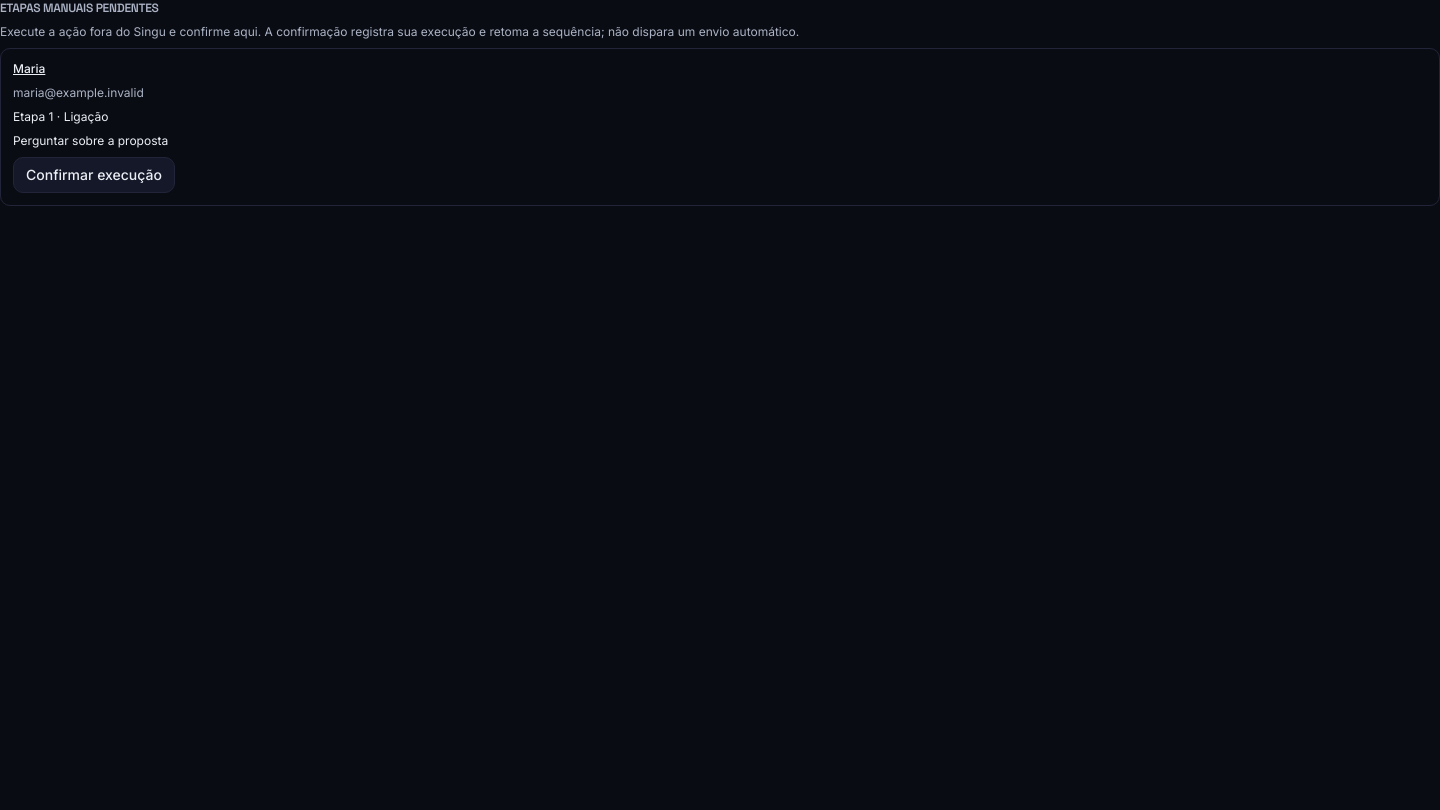
Confirmação manual da sequência › só confirma após declaração explícita da execução e preserva a observação
Check: the text "Perguntar sobre a proposta" is shown, box left=13, top=133, right=168, bottom=148
Click the button "Confirmar execução": point(94, 175) left=13, top=157, right=175, bottom=193
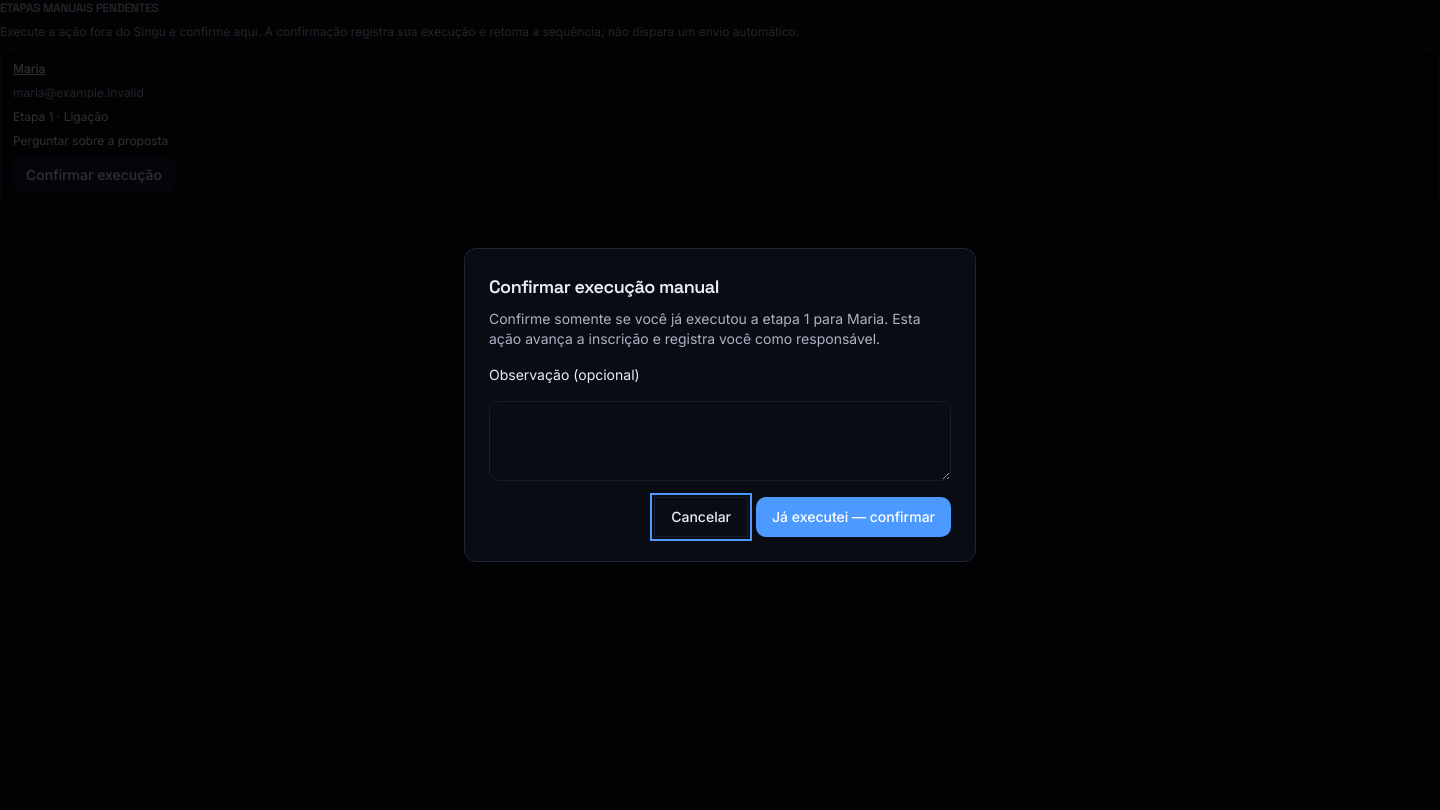
In the text box labelled "Observação (opcional)": point(720, 441) left=489, top=401, right=951, bottom=481, type "Liguei para Maria"
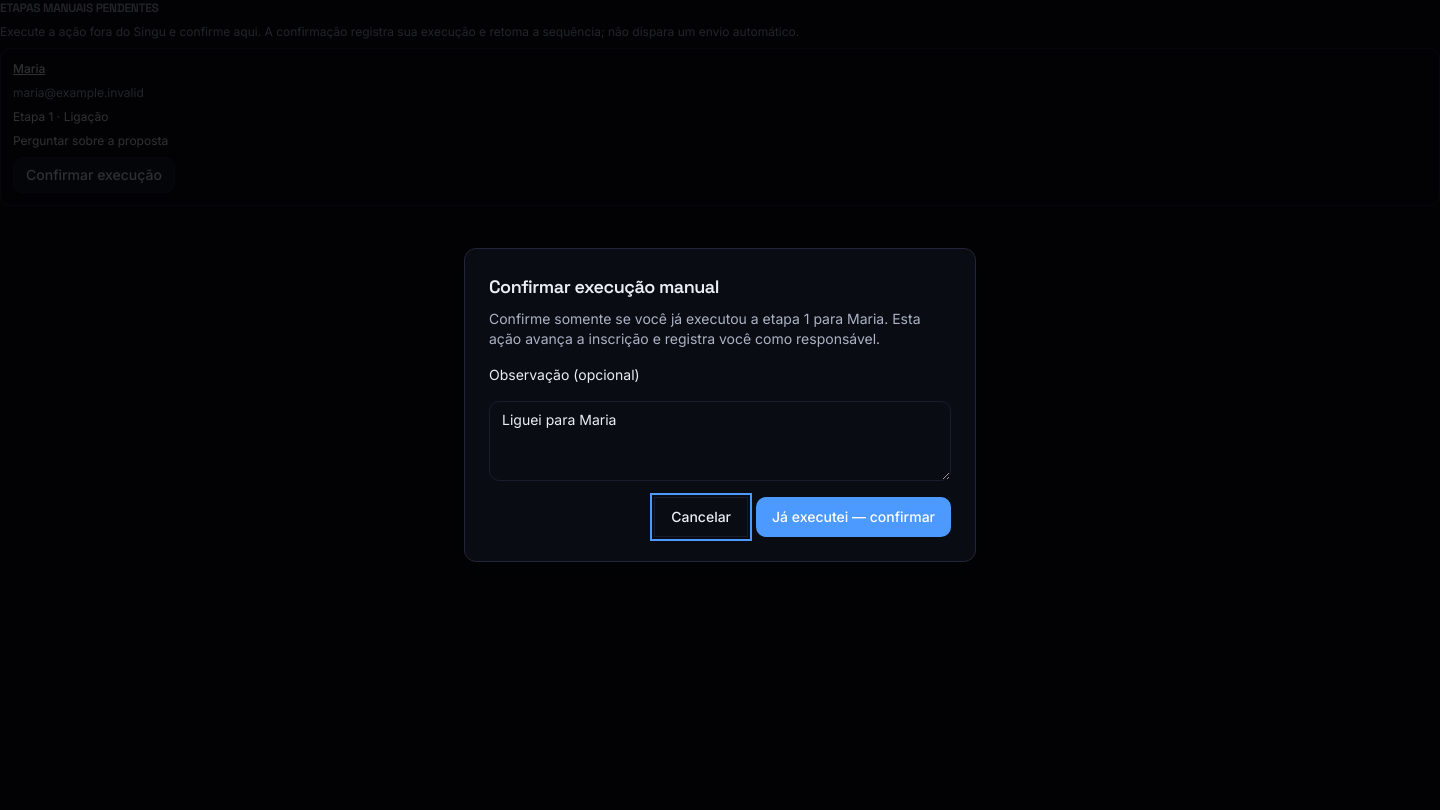
Click the button "Já executei — confirmar": point(854, 517) left=756, top=497, right=951, bottom=537
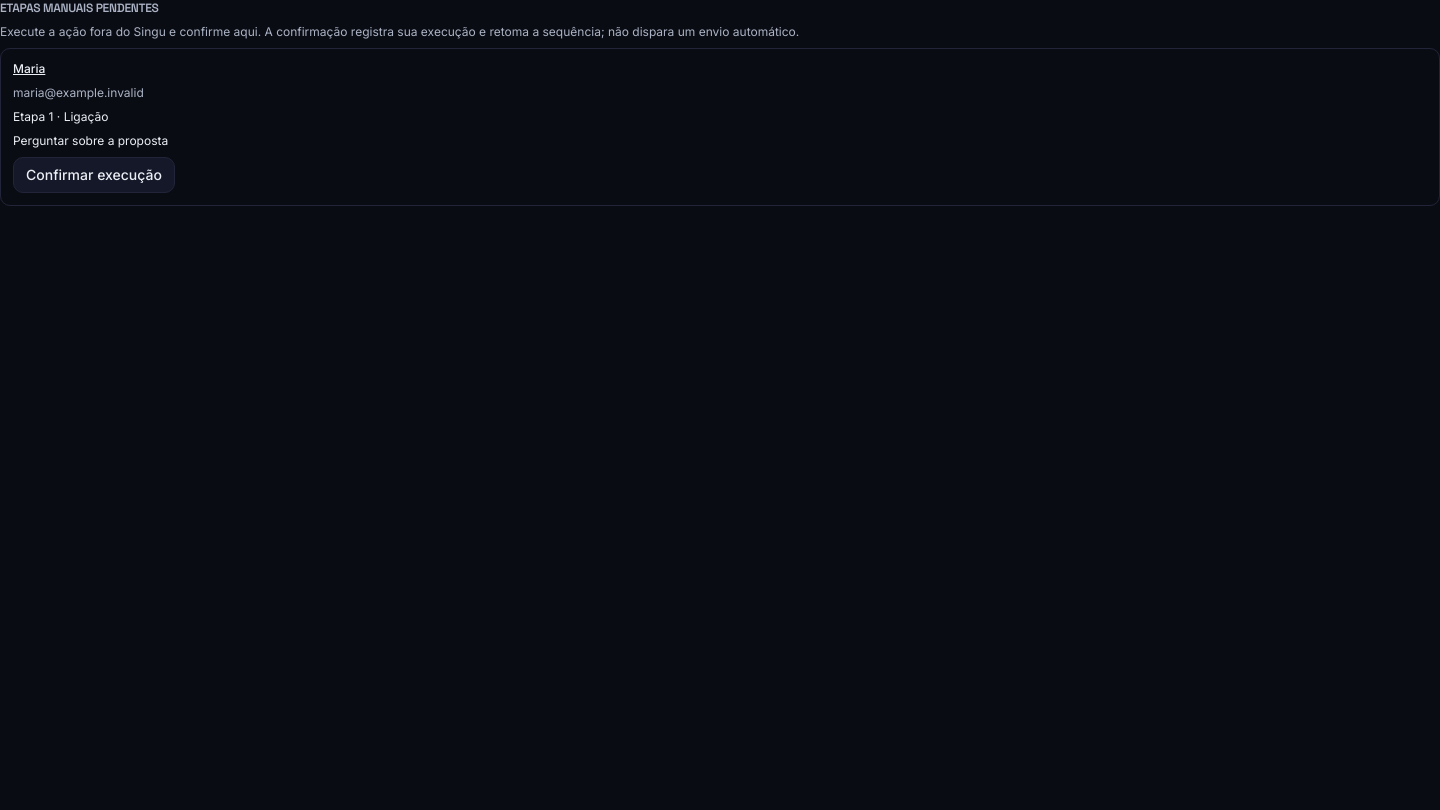
Check: the dialog is gone
